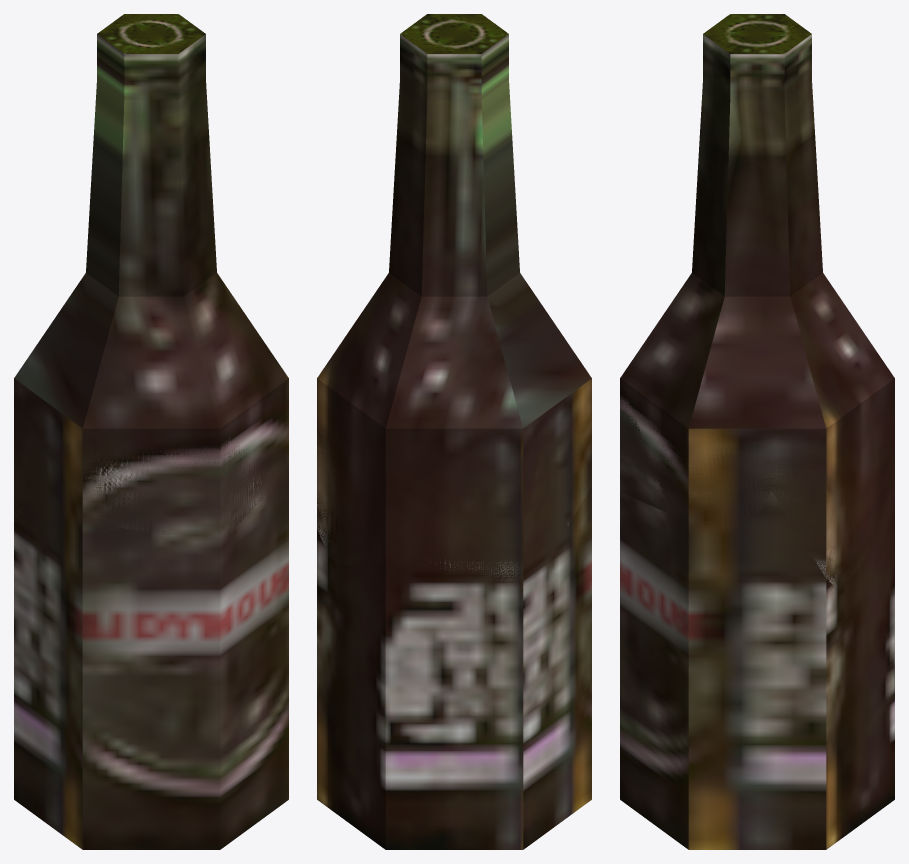
The model's file is bottle.fbx.
3 renders of one model, left to right at view 1: azimuth 30°, elevation 25°; view 2: azimuth 150°, elevation 25°; view 3: azimuth 270°, elevation 25°, orthographic.
Visible parts, largest first — view 1: bottle, bottle break 1, bottle break 2; view 2: bottle, bottle break 1, bottle break 2; view 3: bottle, bottle break 1, bottle break 2.
Boxes of the visible parts, x1,y1,x2,y2 form: bottle: (14, 14, 288, 849); bottle break 1: (14, 486, 288, 849); bottle break 2: (14, 379, 288, 537); bottle: (317, 14, 591, 849); bottle break 1: (317, 496, 591, 849); bottle break 2: (317, 379, 591, 585); bottle: (620, 14, 894, 849); bottle break 1: (620, 516, 894, 849); bottle break 2: (620, 379, 893, 593).
Size of the model in its own units: 7.54 by 26.76 by 8.71.
